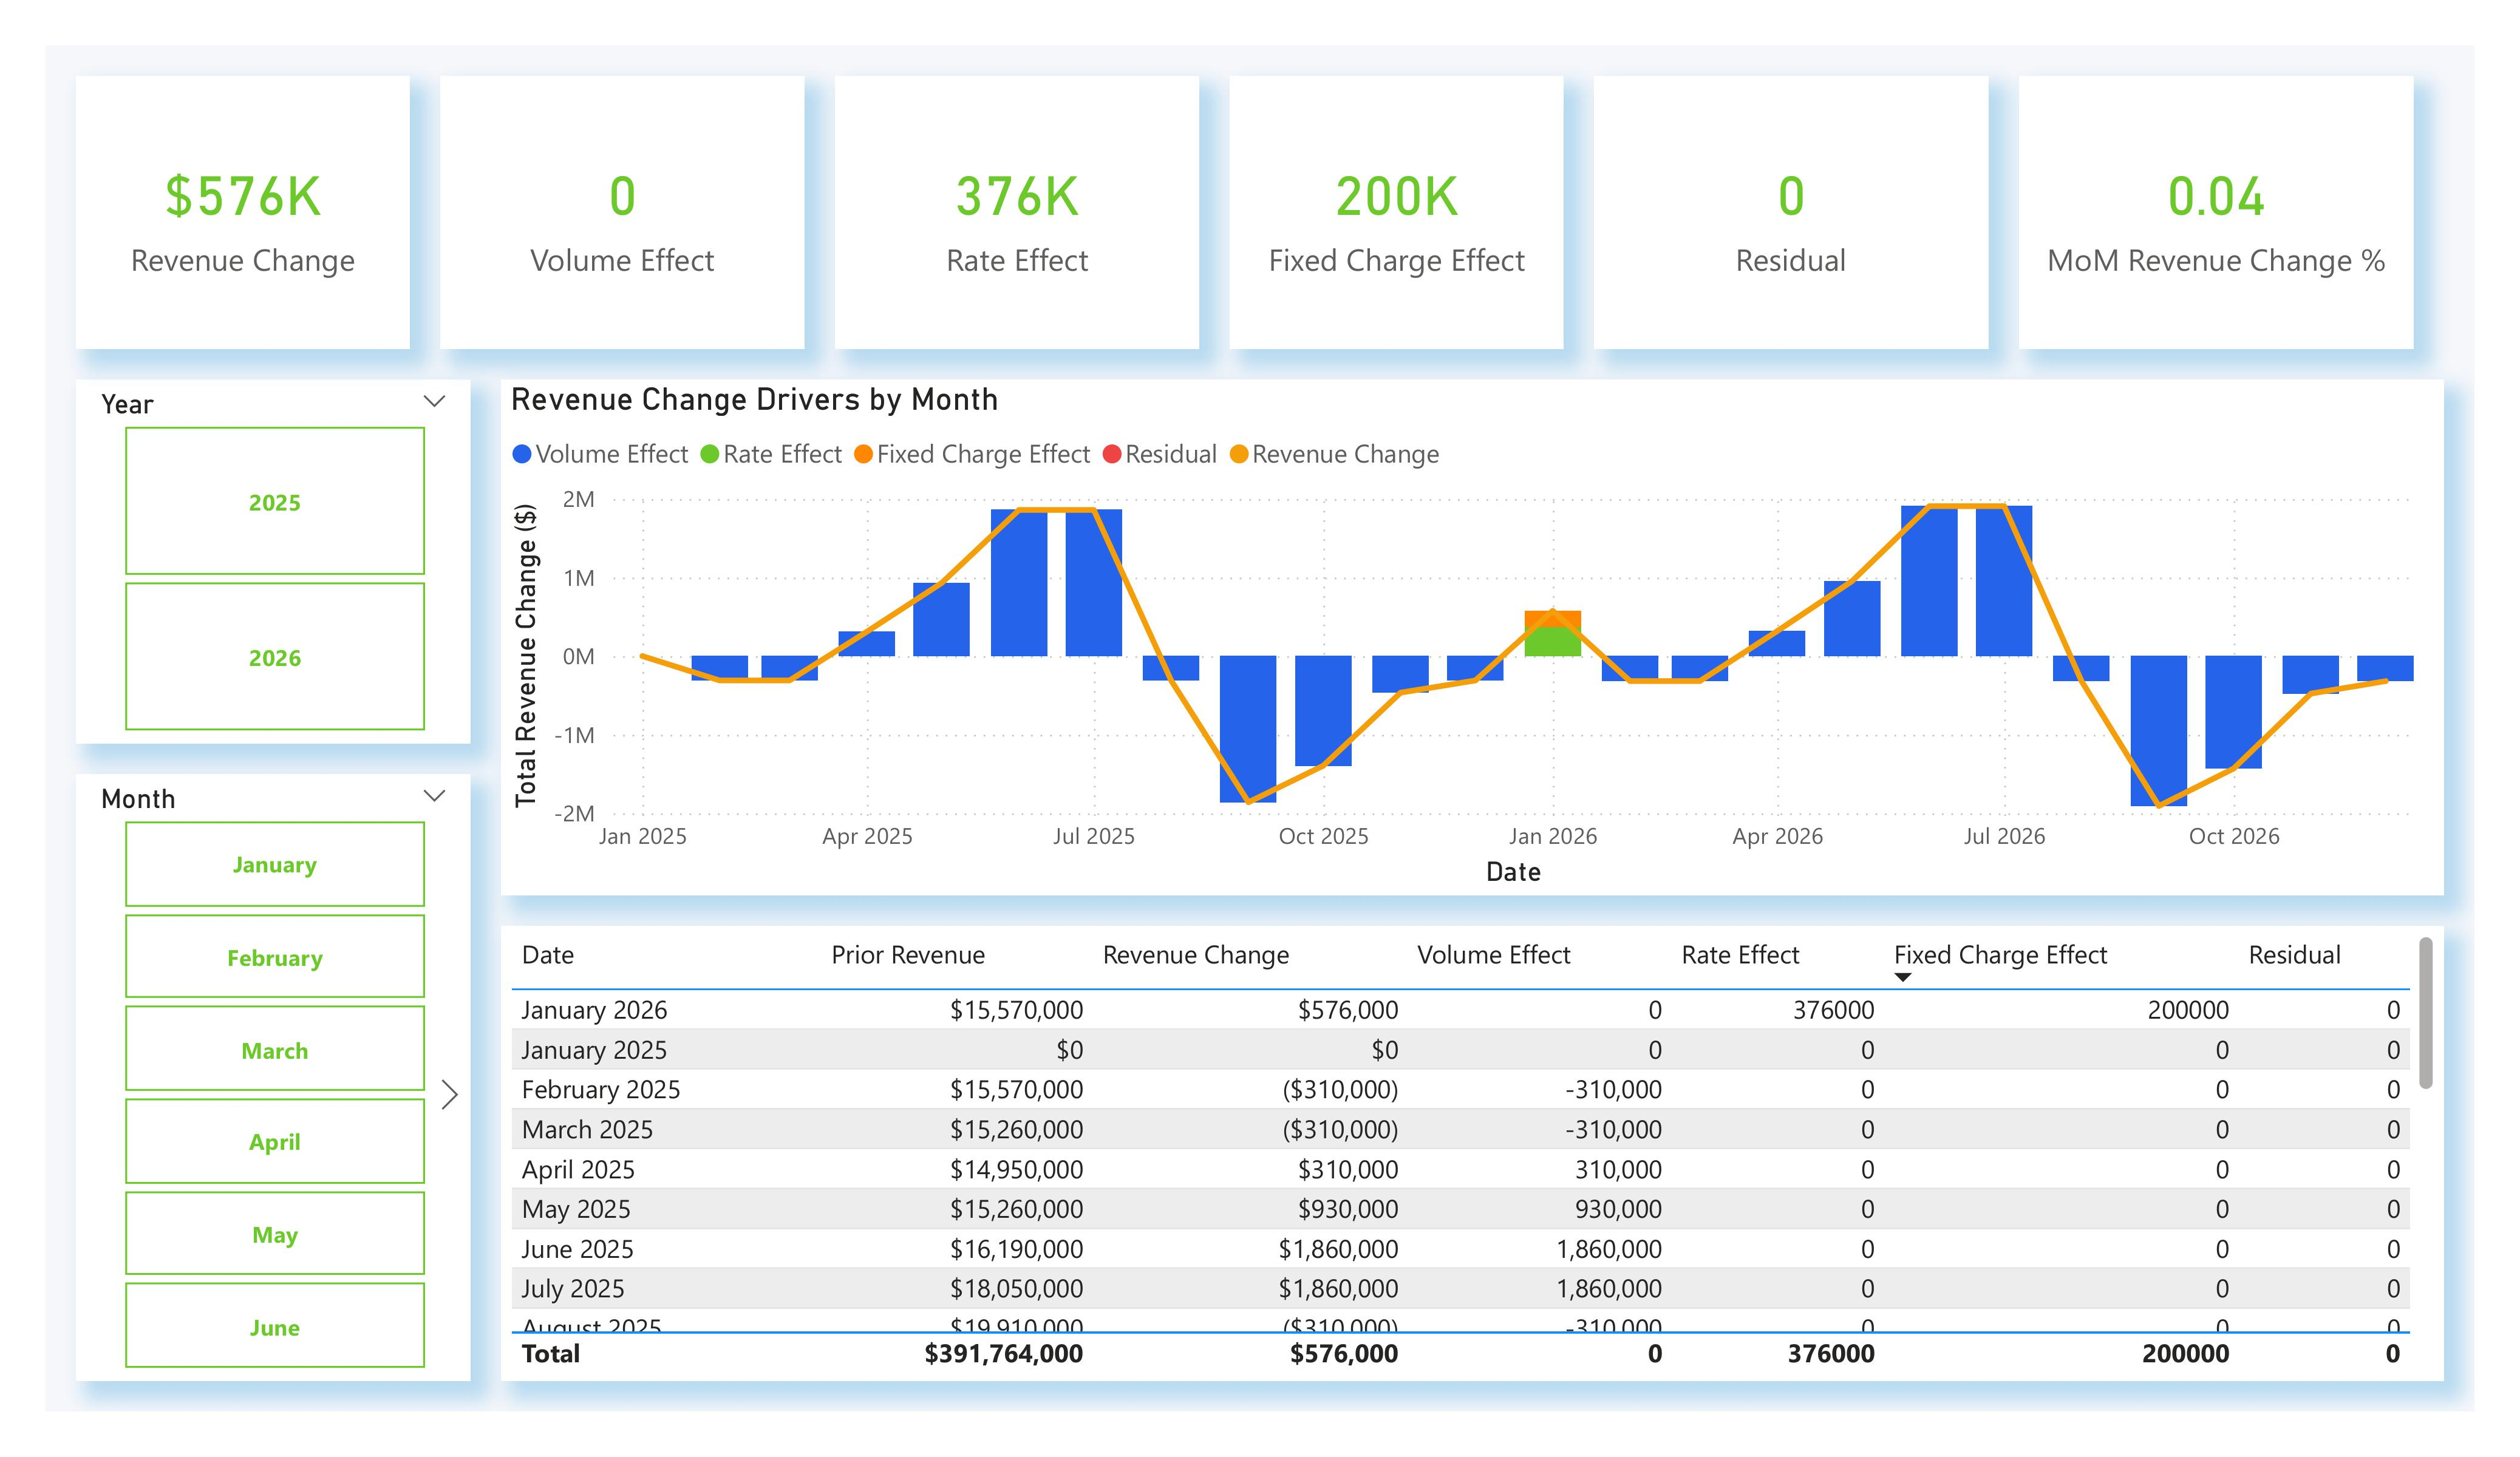

This screenshot's page, from the dashboard's own definition file:
{"tool":"powerbi","page":{"name":"Variance","canvas":[1280,720],"ordinal":1},"visuals":[{"type":"slicer","fields":{"Values":["DateTable.Year"]},"box":[16,176,208,192],"z":0},{"type":"slicer","fields":{"Values":["DateTable.Month"]},"box":[16,384,208,320],"z":1000},{"type":"card","fields":{"Values":["DateTable.Revenue Change"]},"box":[16,16,176,144],"z":2000},{"type":"card","fields":{"Values":["DateTable.Volume Effect"]},"box":[208,16,192,144],"z":3000},{"type":"card","fields":{"Values":["DateTable.Rate Effect"]},"box":[416,16,192,144],"z":4000},{"type":"card","fields":{"Values":["DateTable.Fixed Charge Effect"]},"box":[624,16,176,144],"z":5000},{"type":"card","fields":{"Values":["DateTable.Residual"]},"box":[816,16,208,144],"z":6000},{"type":"card","fields":{"Values":["DateTable.MoM Revenue Change %"]},"box":[1040,16,208,144],"z":7000},{"type":"lineStackedColumnComboChart","title":"Revenue Change Drivers by Month","fields":{"Category":["DateTable.Date"],"Y":["DateTable.Volume Effect","DateTable.Rate Effect","DateTable.Fixed Charge Effect","DateTable.Residual"],"Y2":["DateTable.Revenue Change"]},"box":[240,176,1024,272],"z":8000},{"type":"tableEx","fields":{"Values":["DateTable.Date","DateTable.Prior Revenue","DateTable.Revenue Change","DateTable.Volume Effect","DateTable.Rate Effect","DateTable.Fixed Charge Effect","DateTable.Residual"]},"box":[240,464,1024,240],"z":9000}]}

Visuals, with their boxes in screenshot pixels (x1, y1, x2, y2):
slicer - DateTable.Year: {"left": 76, "top": 379, "right": 471, "bottom": 744}
slicer - DateTable.Month: {"left": 76, "top": 774, "right": 471, "bottom": 1381}
card - DateTable.Revenue Change: {"left": 76, "top": 76, "right": 410, "bottom": 349}
card - DateTable.Volume Effect: {"left": 440, "top": 76, "right": 805, "bottom": 349}
card - DateTable.Rate Effect: {"left": 835, "top": 76, "right": 1199, "bottom": 349}
card - DateTable.Fixed Charge Effect: {"left": 1230, "top": 76, "right": 1564, "bottom": 349}
card - DateTable.Residual: {"left": 1594, "top": 76, "right": 1989, "bottom": 349}
card - DateTable.MoM Revenue Change %: {"left": 2019, "top": 76, "right": 2414, "bottom": 349}
"Revenue Change Drivers by Month" lineStackedColumnComboChart: {"left": 501, "top": 379, "right": 2444, "bottom": 895}
tableEx - DateTable.Date x DateTable.Prior Revenue: {"left": 501, "top": 926, "right": 2444, "bottom": 1381}
